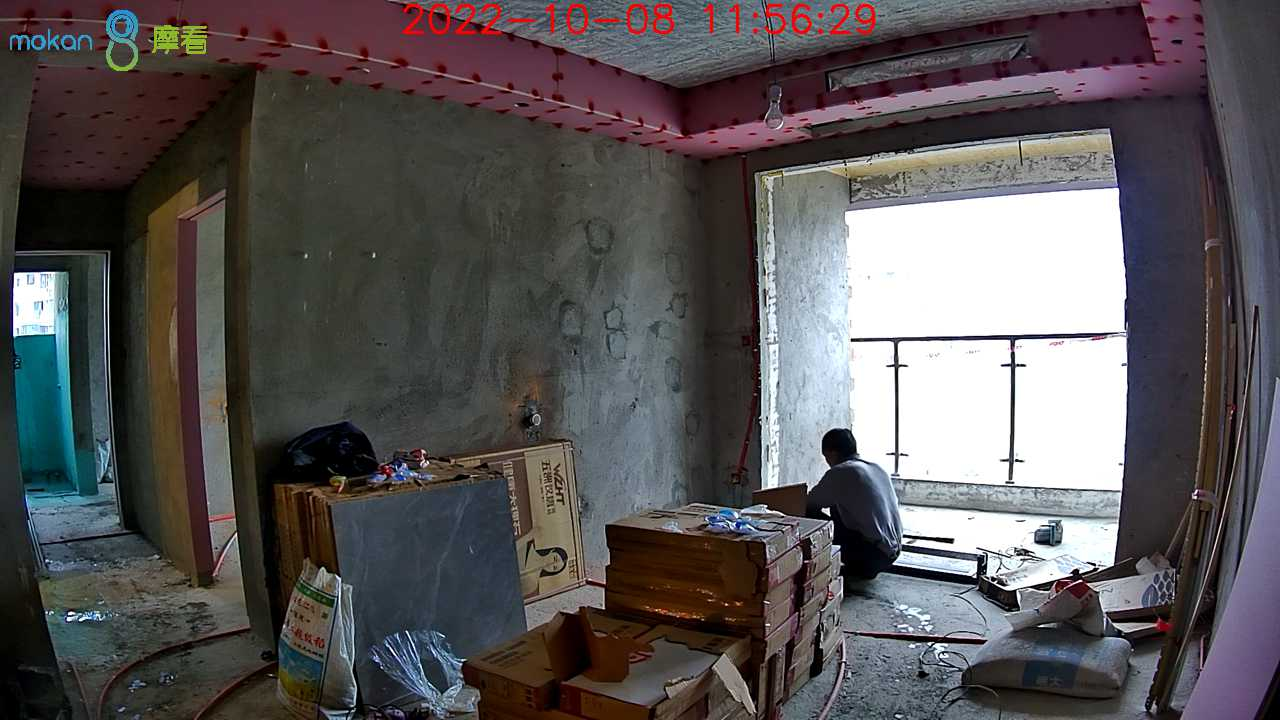people: (811, 429, 906, 572)
window: (843, 189, 1129, 491)
